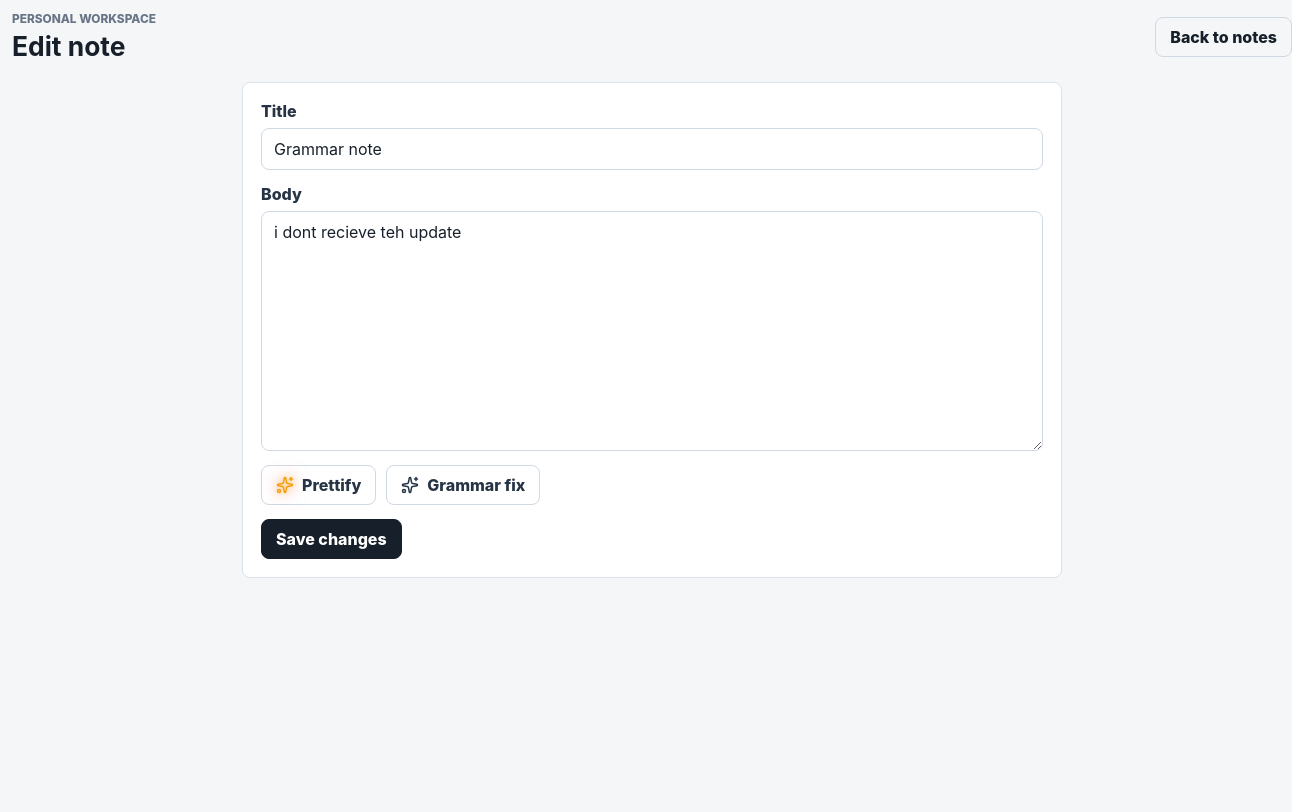
Test: NotesPage › previews and applies a grammar fix on the edit page
The width and height of the screenshot is (1292, 812).
Expected: the field showing "Grammar note" is shown, [261,128,1043,170]
Step 1. Click the button "Grammar fix" → click(463, 485), box [386,465,540,505]
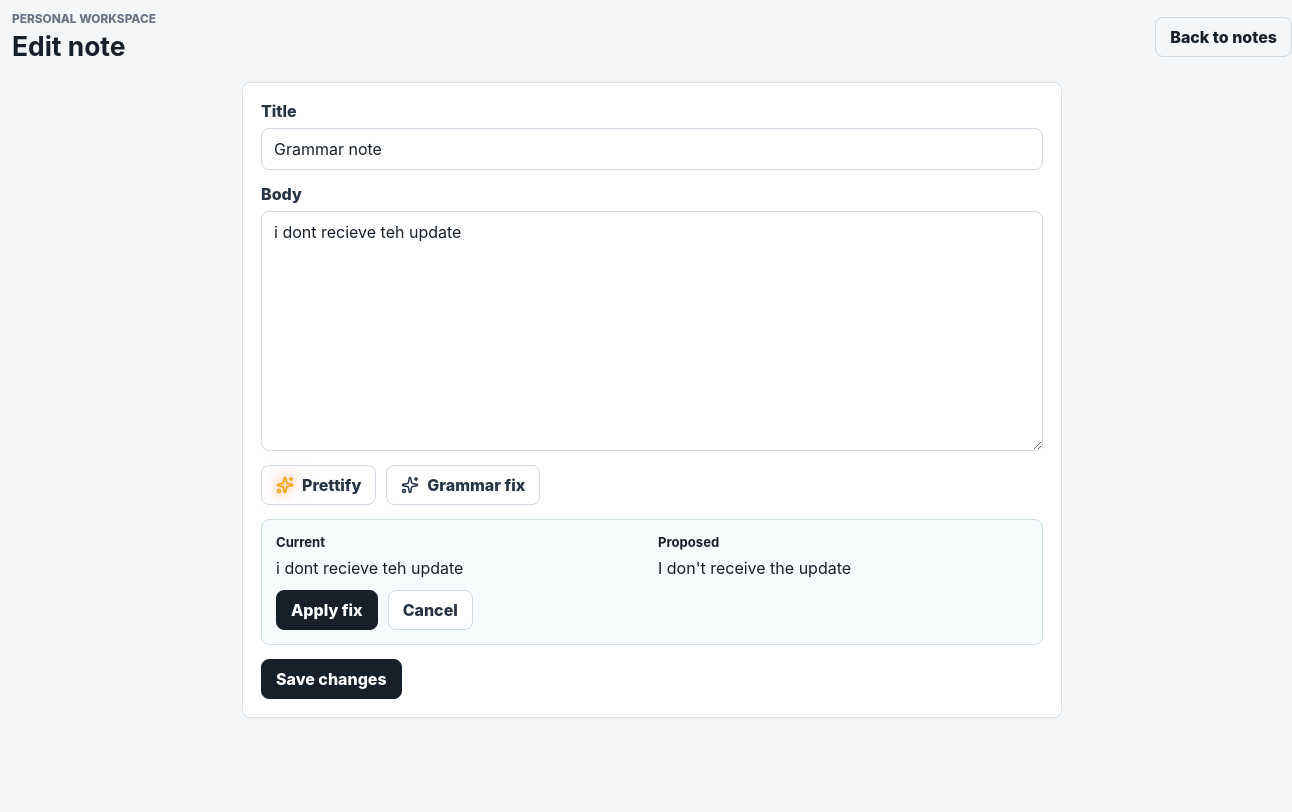
Now the element named "grammar fix preview" shows "I don't receive the update", box [658,558,851,578]
Step 2. Click the button "Apply fix" → click(327, 610), box [276,590,378,630]
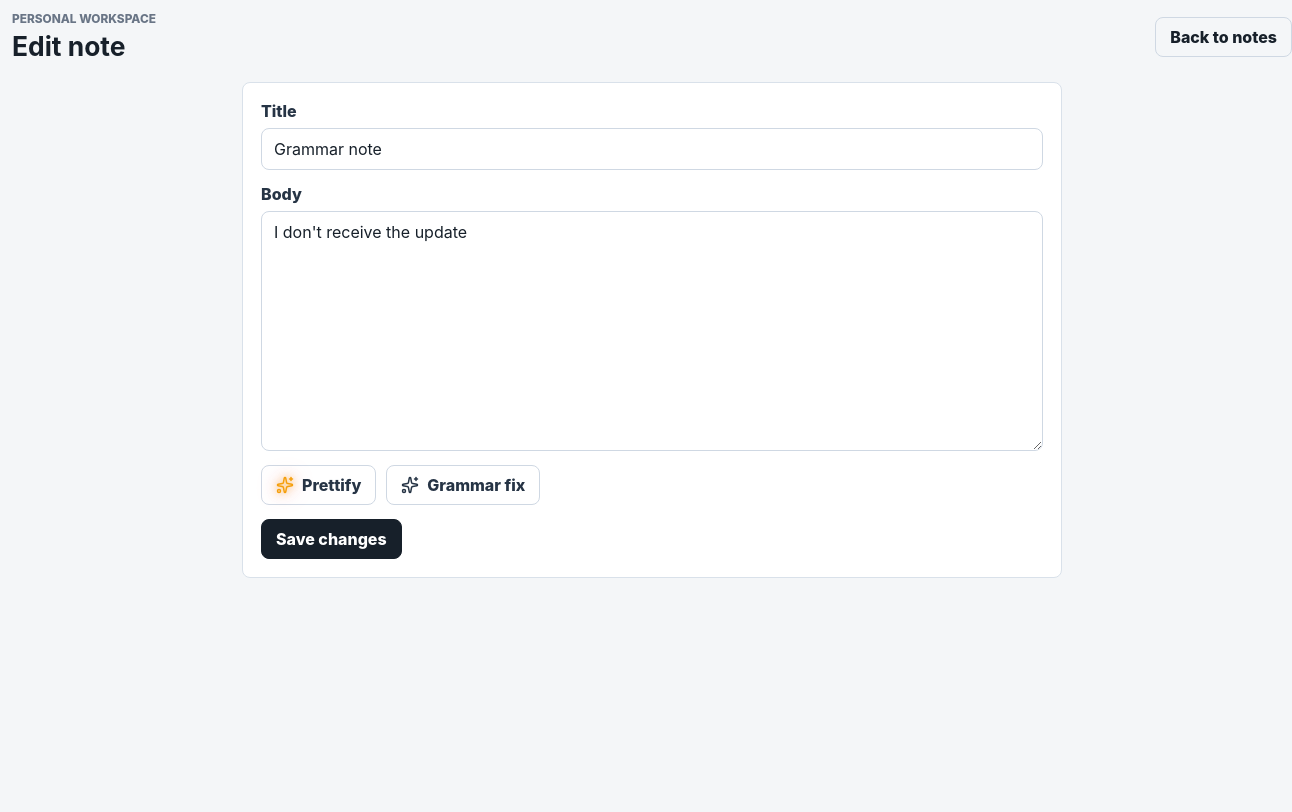
Now the text box showing "I don't receive the update" is shown, box [261,211,1043,451]
